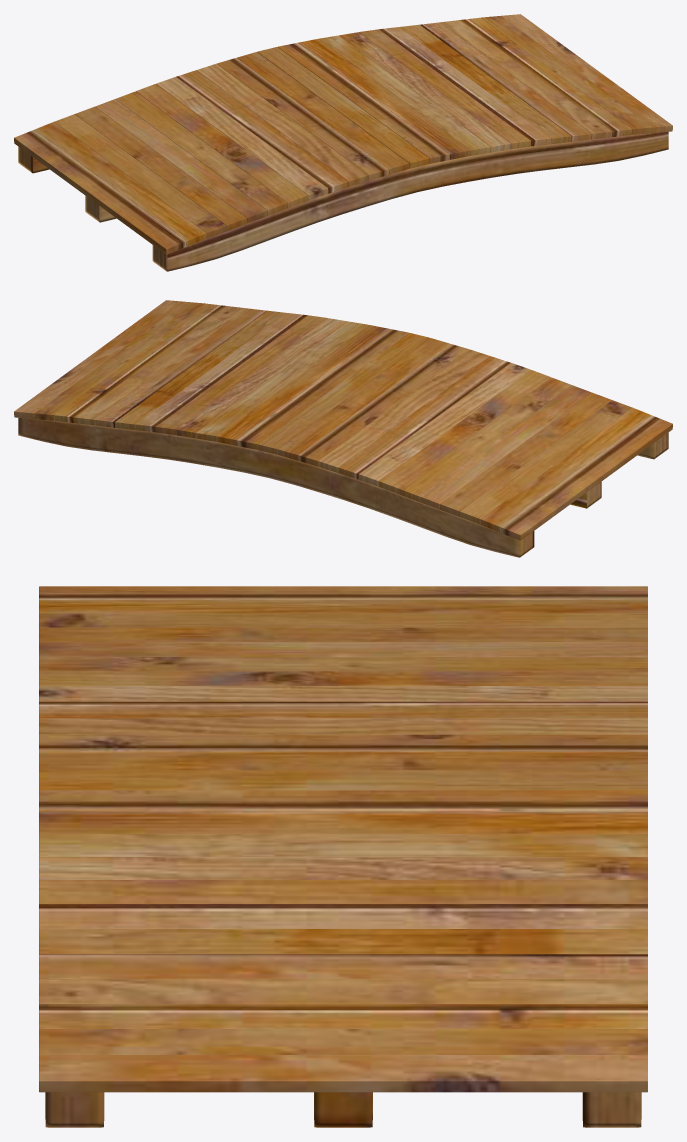
Rendered from ponte3.fbx.
3 renders of one model, top to bottom at view 1: azimuth 30°, elevation 25°; view 2: azimuth 150°, elevation 25°; view 3: azimuth 270°, elevation 25°, orthographic. The views are drawn at different scales.
Visible parts, largest first — view 1: AC_BCSimpleArch.Shape; view 2: AC_BCSimpleArch.Shape; view 3: AC_BCSimpleArch.Shape.
Part boxes in pixels (x1,y1,x2,y2): AC_BCSimpleArch.Shape: [14, 14, 672, 271]; AC_BCSimpleArch.Shape: [14, 300, 672, 557]; AC_BCSimpleArch.Shape: [39, 586, 647, 1127].
Bounding box in the file's own units: 328 × 31.8 × 170.
2 materials, 2 textured.
